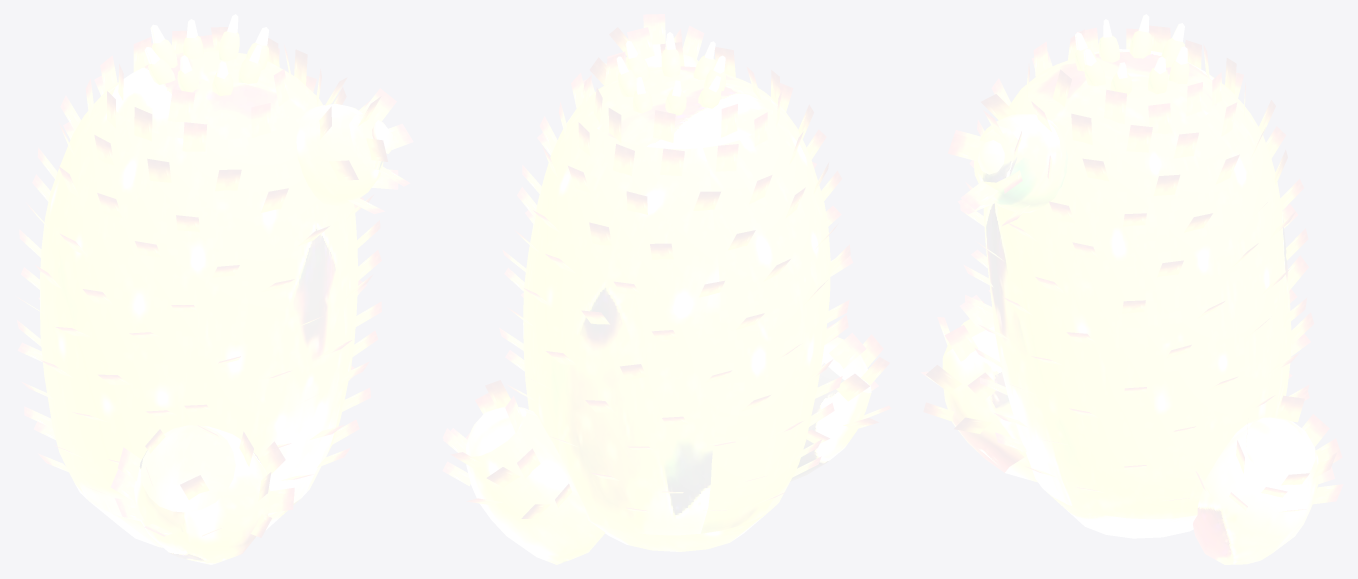
3 views of the same model, side by side, from view 1: azimuth 30°, elevation 25°; view 2: azimuth 150°, elevation 25°; view 3: azimuth 270°, elevation 25° (orthographic). The views are drawn at different scales.
Parts seen in each view (by area): view 1: SM_Cactus_Bunny_Diseased_01_LOD0; view 2: SM_Cactus_Bunny_Diseased_01_LOD0; view 3: SM_Cactus_Bunny_Diseased_01_LOD0.
Boxes of the visible parts, x1,y1,x2,y2 form: SM_Cactus_Bunny_Diseased_01_LOD0: (16,14,413,564); SM_Cactus_Bunny_Diseased_01_LOD0: (442,14,891,564); SM_Cactus_Bunny_Diseased_01_LOD0: (920,14,1343,564).
Size of the model in its own units: 0.9682 by 1.42 by 1.1.
